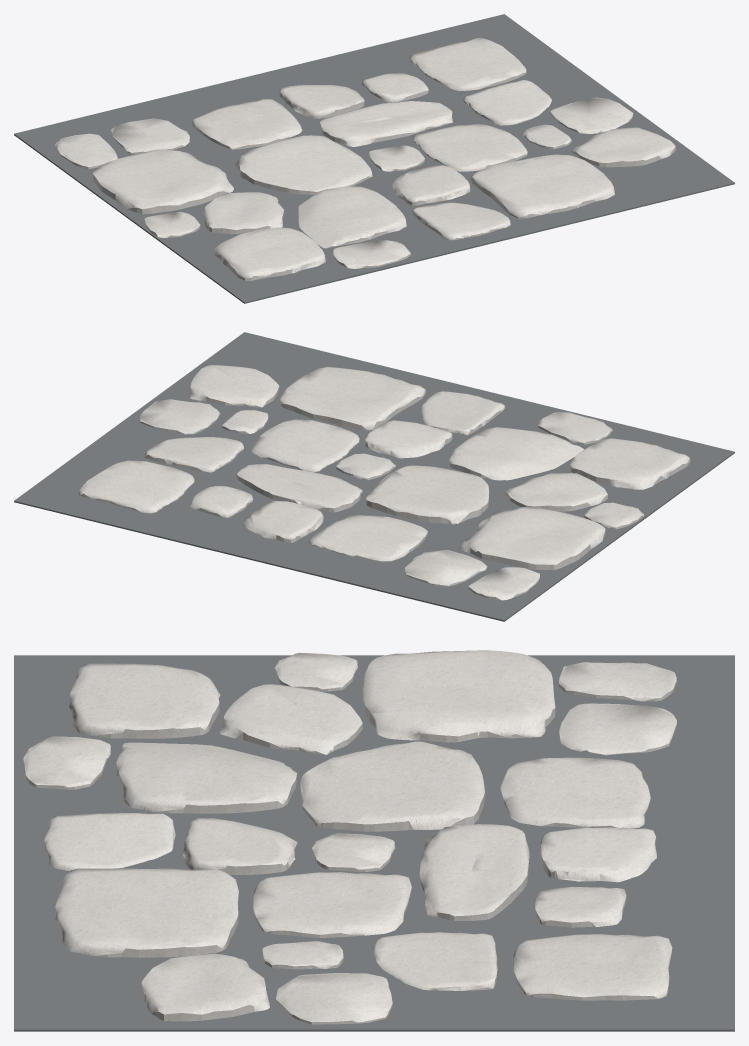
The model's file is FlatStoneGroundPatch01.fbx.
The picture shows the model from 3 angles, top to bottom: view 1: azimuth 30°, elevation 25°; view 2: azimuth 150°, elevation 25°; view 3: azimuth 270°, elevation 25°; orthographic projection. The views are drawn at different scales.
Visible parts, largest first — view 1: FlatStoneGroundPatch01; view 2: FlatStoneGroundPatch01; view 3: FlatStoneGroundPatch01.
Part boxes in pixels (x1,y1,x2,y2): FlatStoneGroundPatch01: (14, 14, 734, 303); FlatStoneGroundPatch01: (14, 332, 734, 621); FlatStoneGroundPatch01: (14, 650, 734, 1031).
Bounding box in the file's own units: 9.05 × 0.1765 × 7.37.
